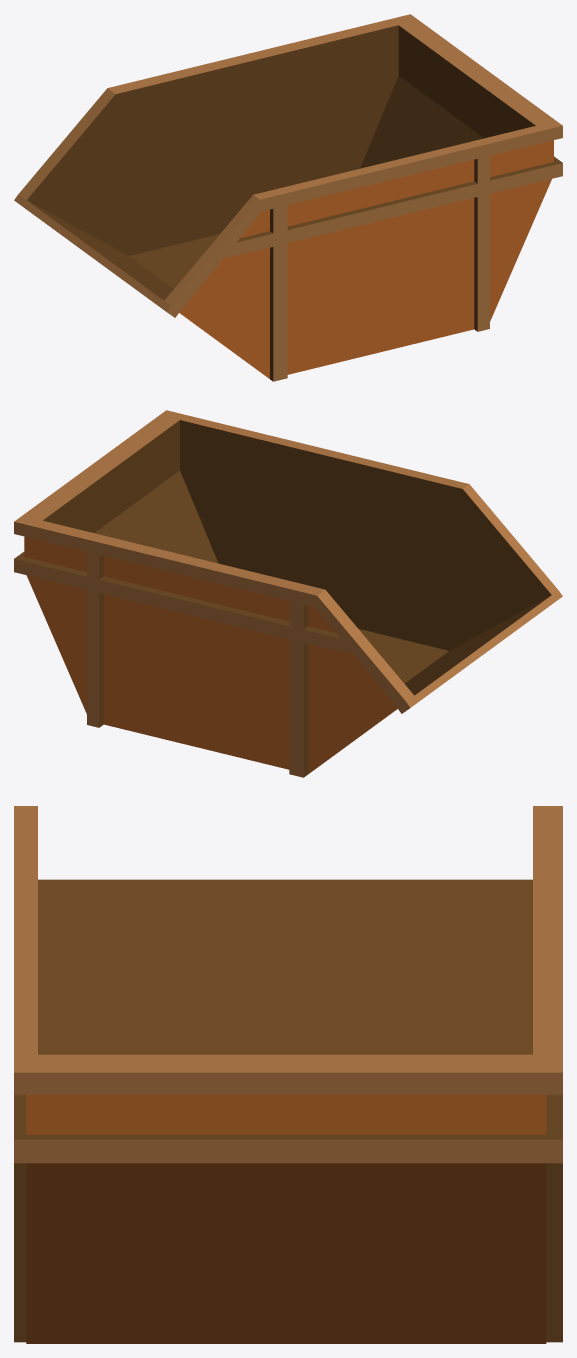
The model's file is MESH_PROP_Cacamba.fbx.
The picture shows the model from 3 angles, top to bottom: view 1: azimuth 30°, elevation 25°; view 2: azimuth 150°, elevation 25°; view 3: azimuth 270°, elevation 25°; orthographic projection. The views are drawn at different scales.
Parts seen in each view (by area): view 1: cacamba; view 2: cacamba; view 3: cacamba.
Boxes of the visible parts, <box> form: cacamba: <box>14,14,562,381</box>; cacamba: <box>14,410,562,777</box>; cacamba: <box>14,806,562,1343</box>.
Bounding box in the file's own units: 314 × 140 × 209.
